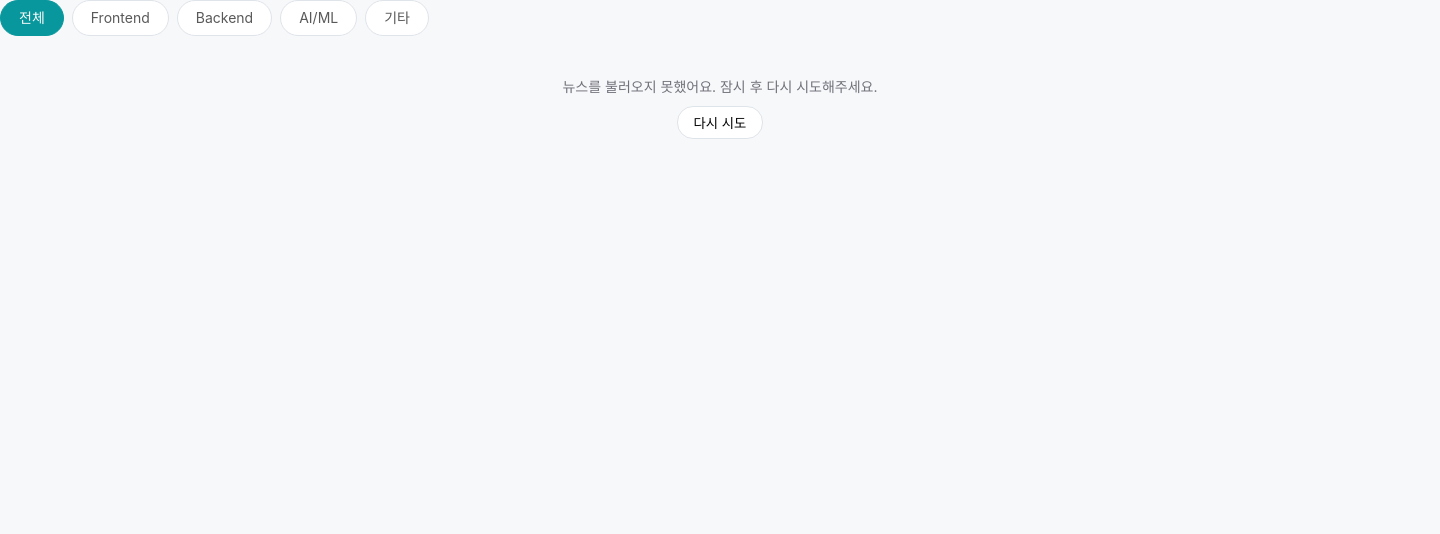
Test: TechNewsPage › 조회 실패 시 에러 문구와 다시 시도 버튼을 표시하고, 다시 시도로 재조회한다
Expected: the text "뉴스를 불러오지 못했어요. 잠시 후 다시 시도해주세요." is shown, [562, 78, 878, 95]
Click the button "다시 시도" at (720, 122), box [677, 106, 763, 139]
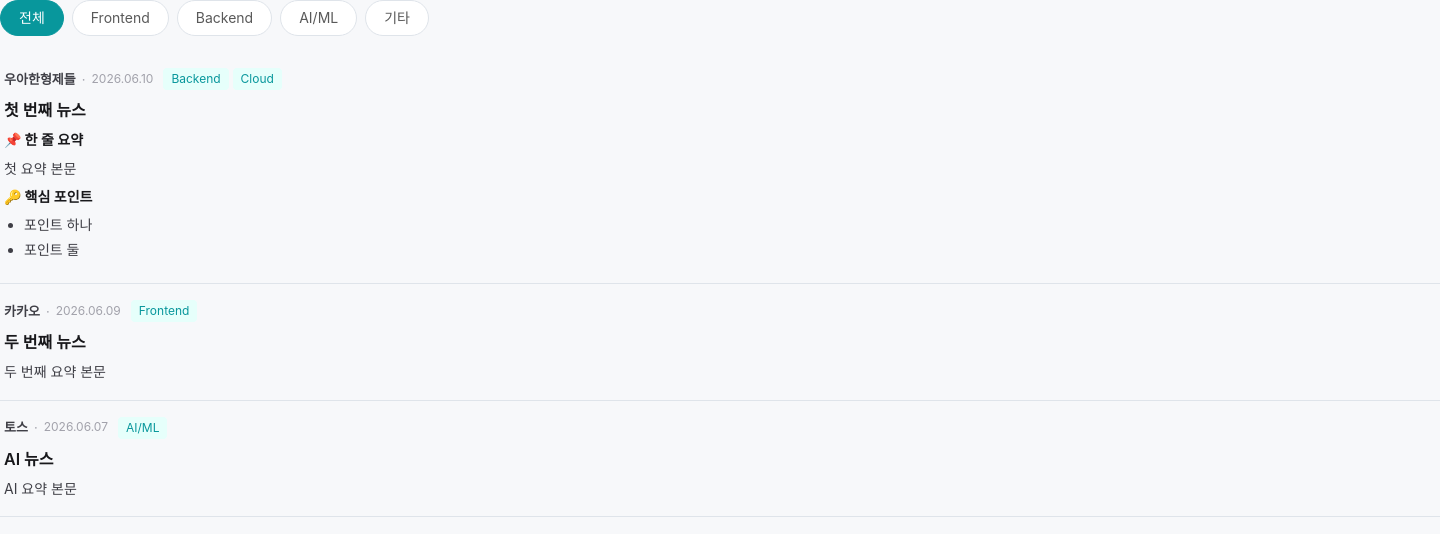
Now the link "첫 번째 뉴스" is shown, box [4, 100, 86, 120]
